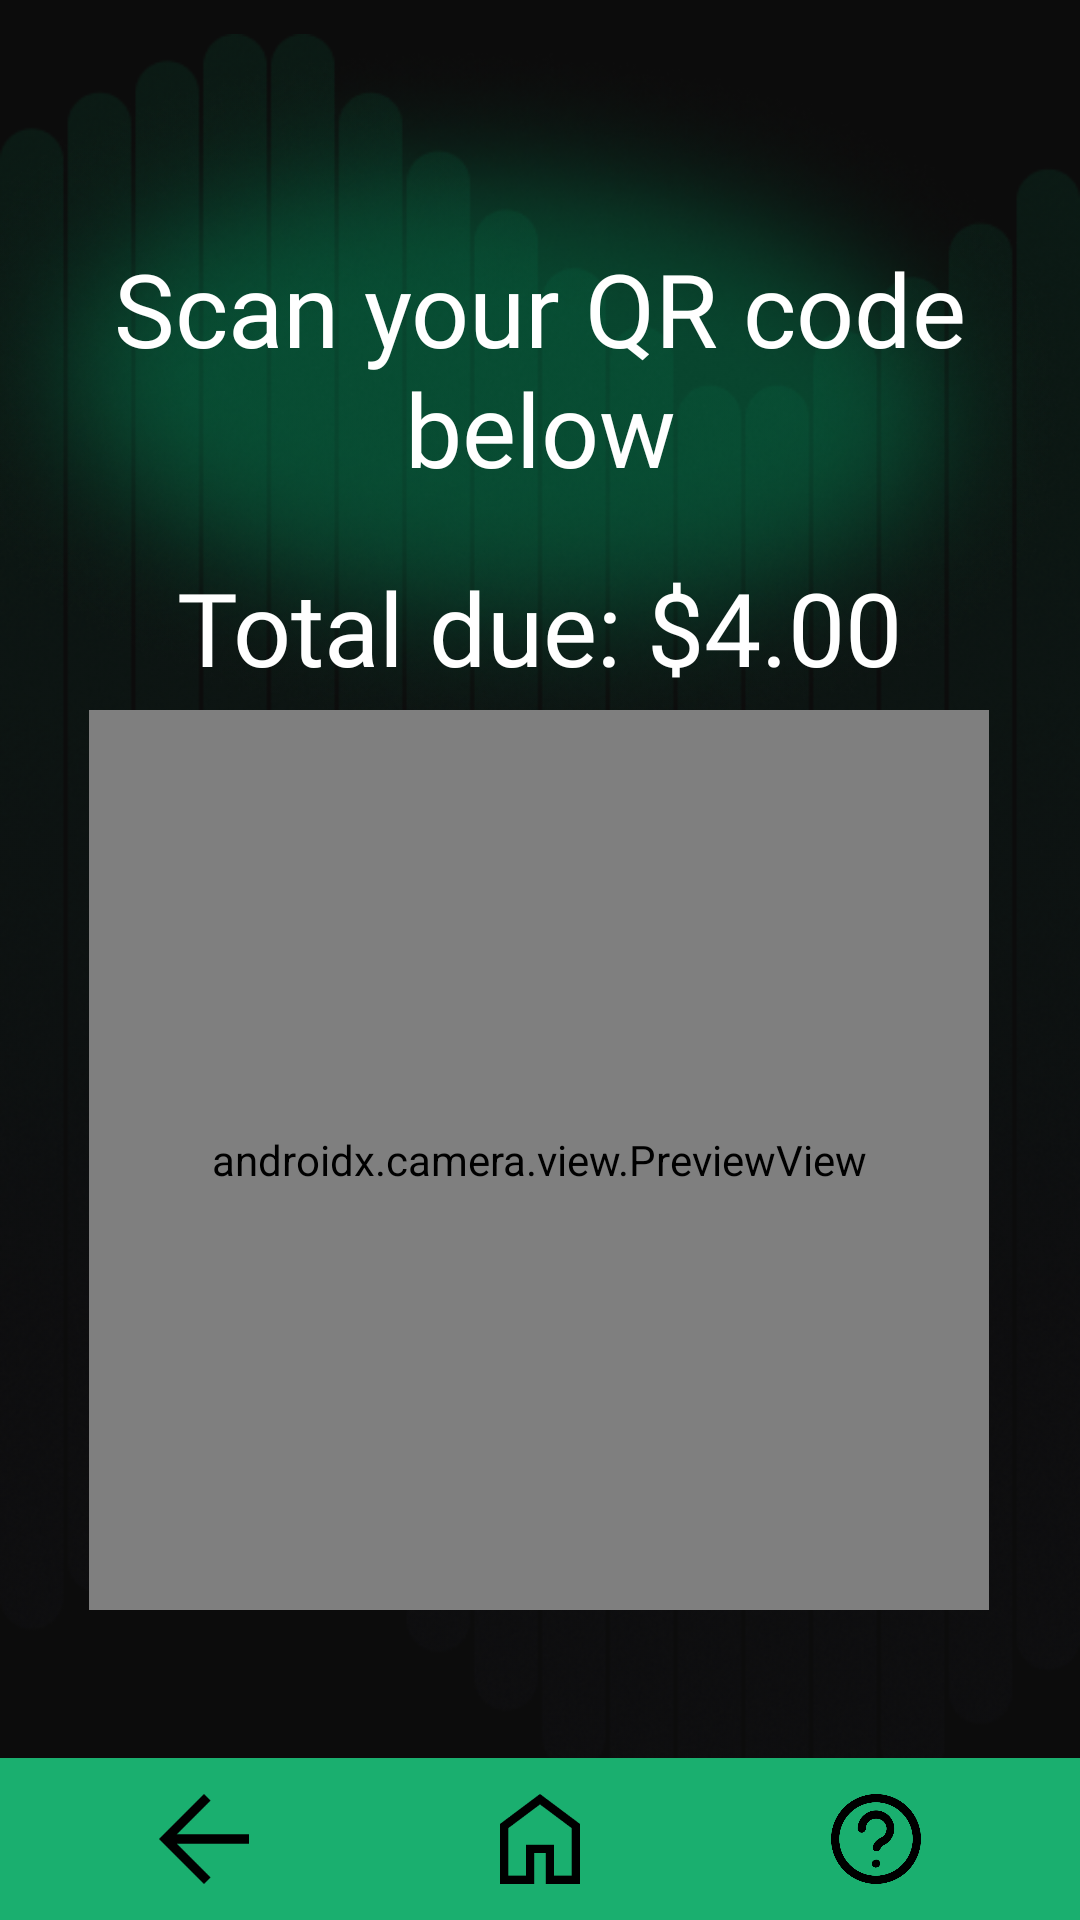

Icons on this 1080px×1920px Android screen, each with its box as (x1, y1, x2, y2):
Back Button: (159, 1794, 249, 1884)
Home Button: (500, 1794, 580, 1884)
